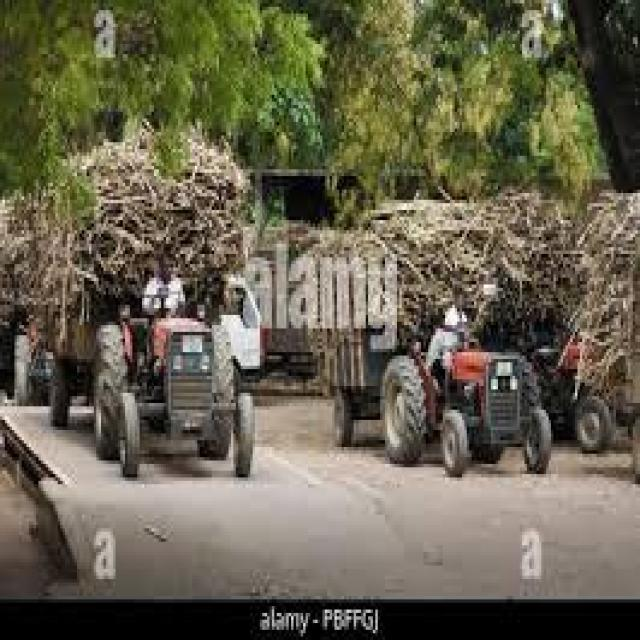person: (426, 301, 467, 369), (144, 264, 183, 315)
tractor: (53, 298, 250, 477), (318, 332, 549, 477), (532, 332, 611, 454)
